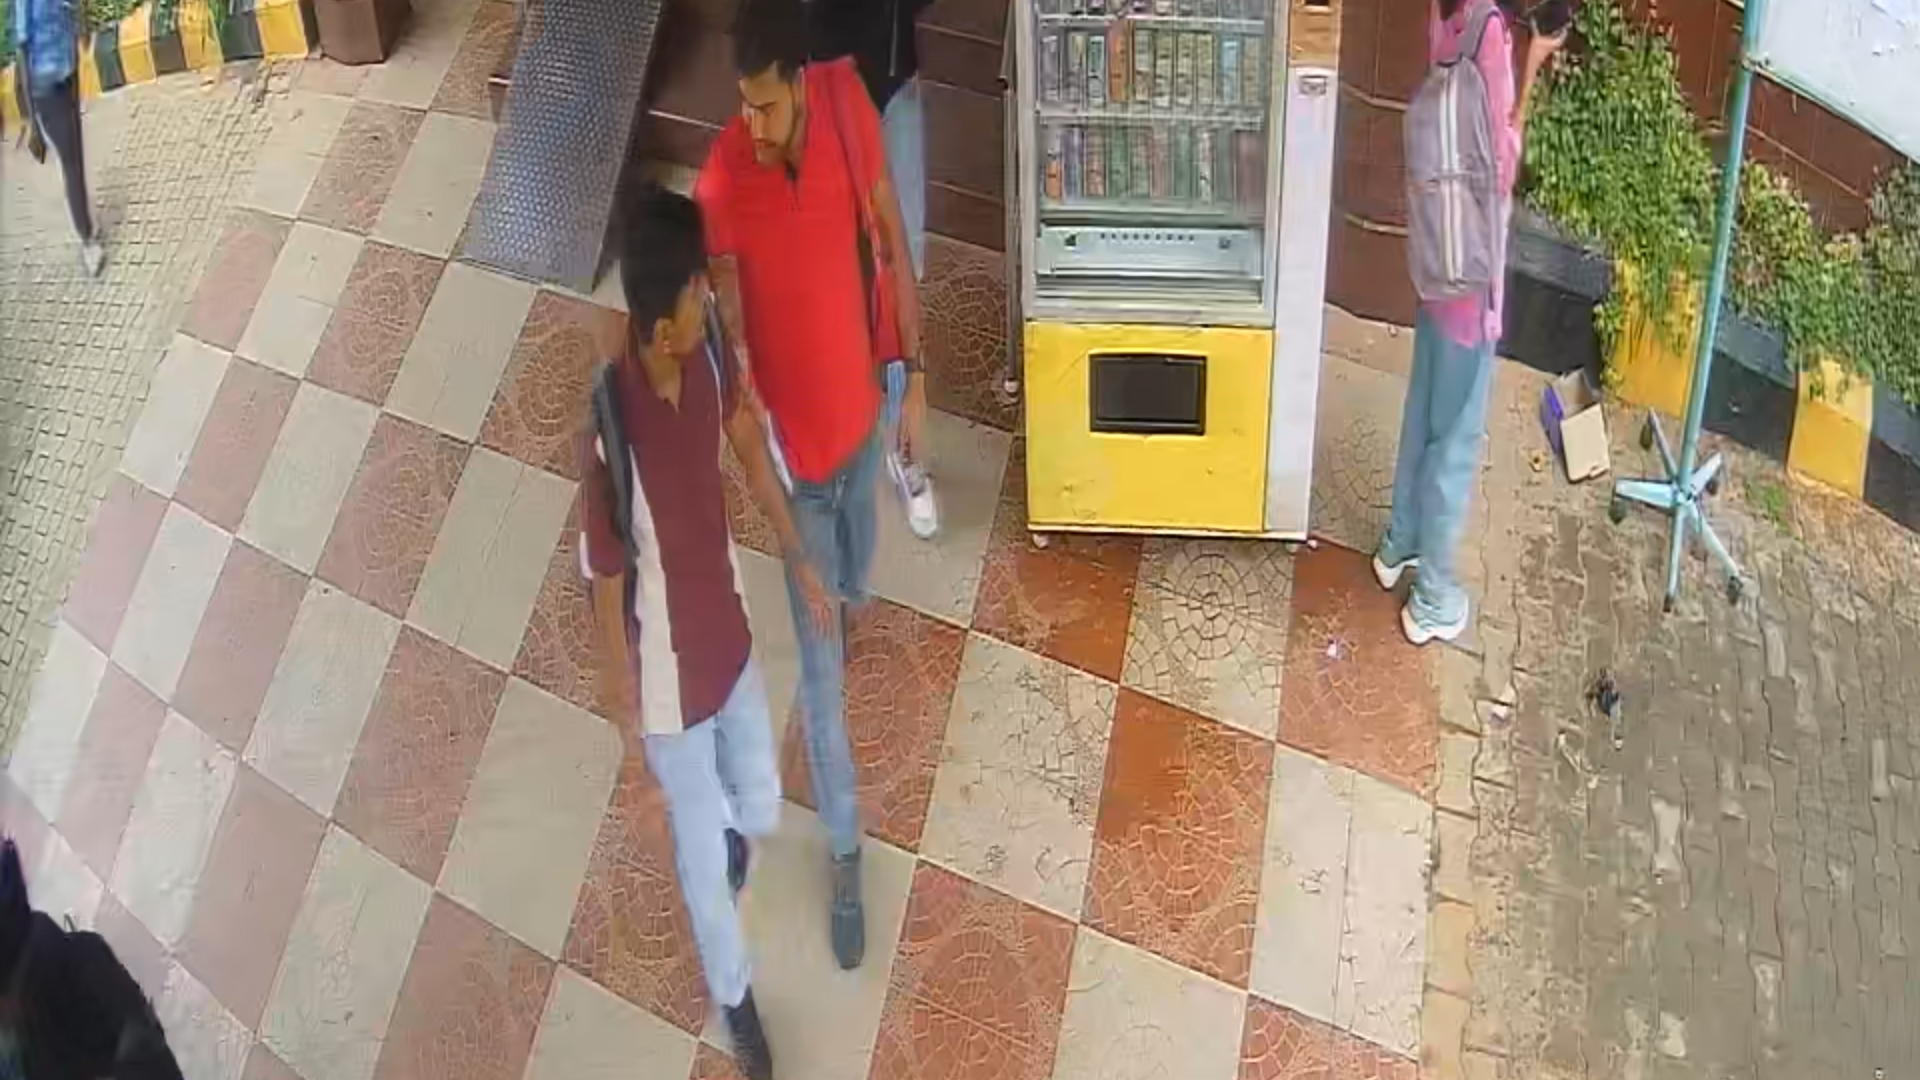intruder: (711, 17, 939, 931), (580, 196, 793, 1080)
